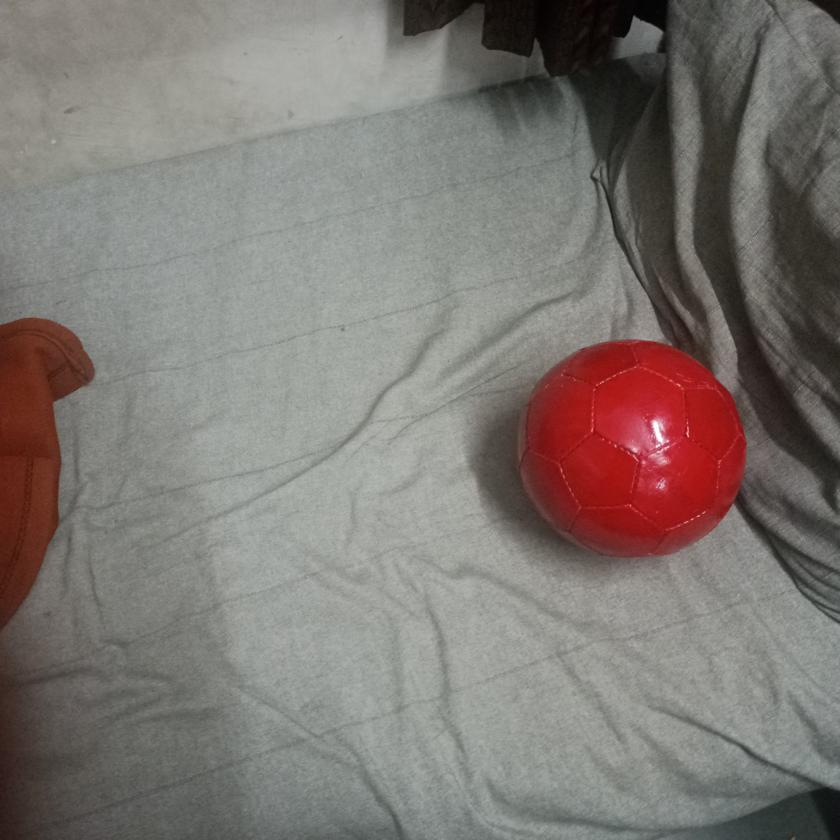Red_Ball: (510, 334, 740, 561)
